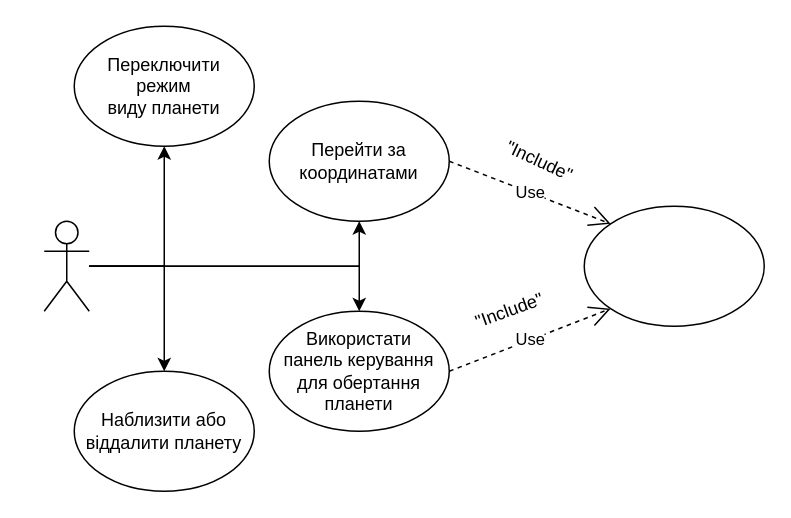
This 791x518 diagram has some shape labels left out. Here are the shapes that lost their labels. From the top down, the box of each, then its label:
(43, 220, 89, 311): Actor Оператор
(583, 205, 764, 326): Вивести нові координати на табло
